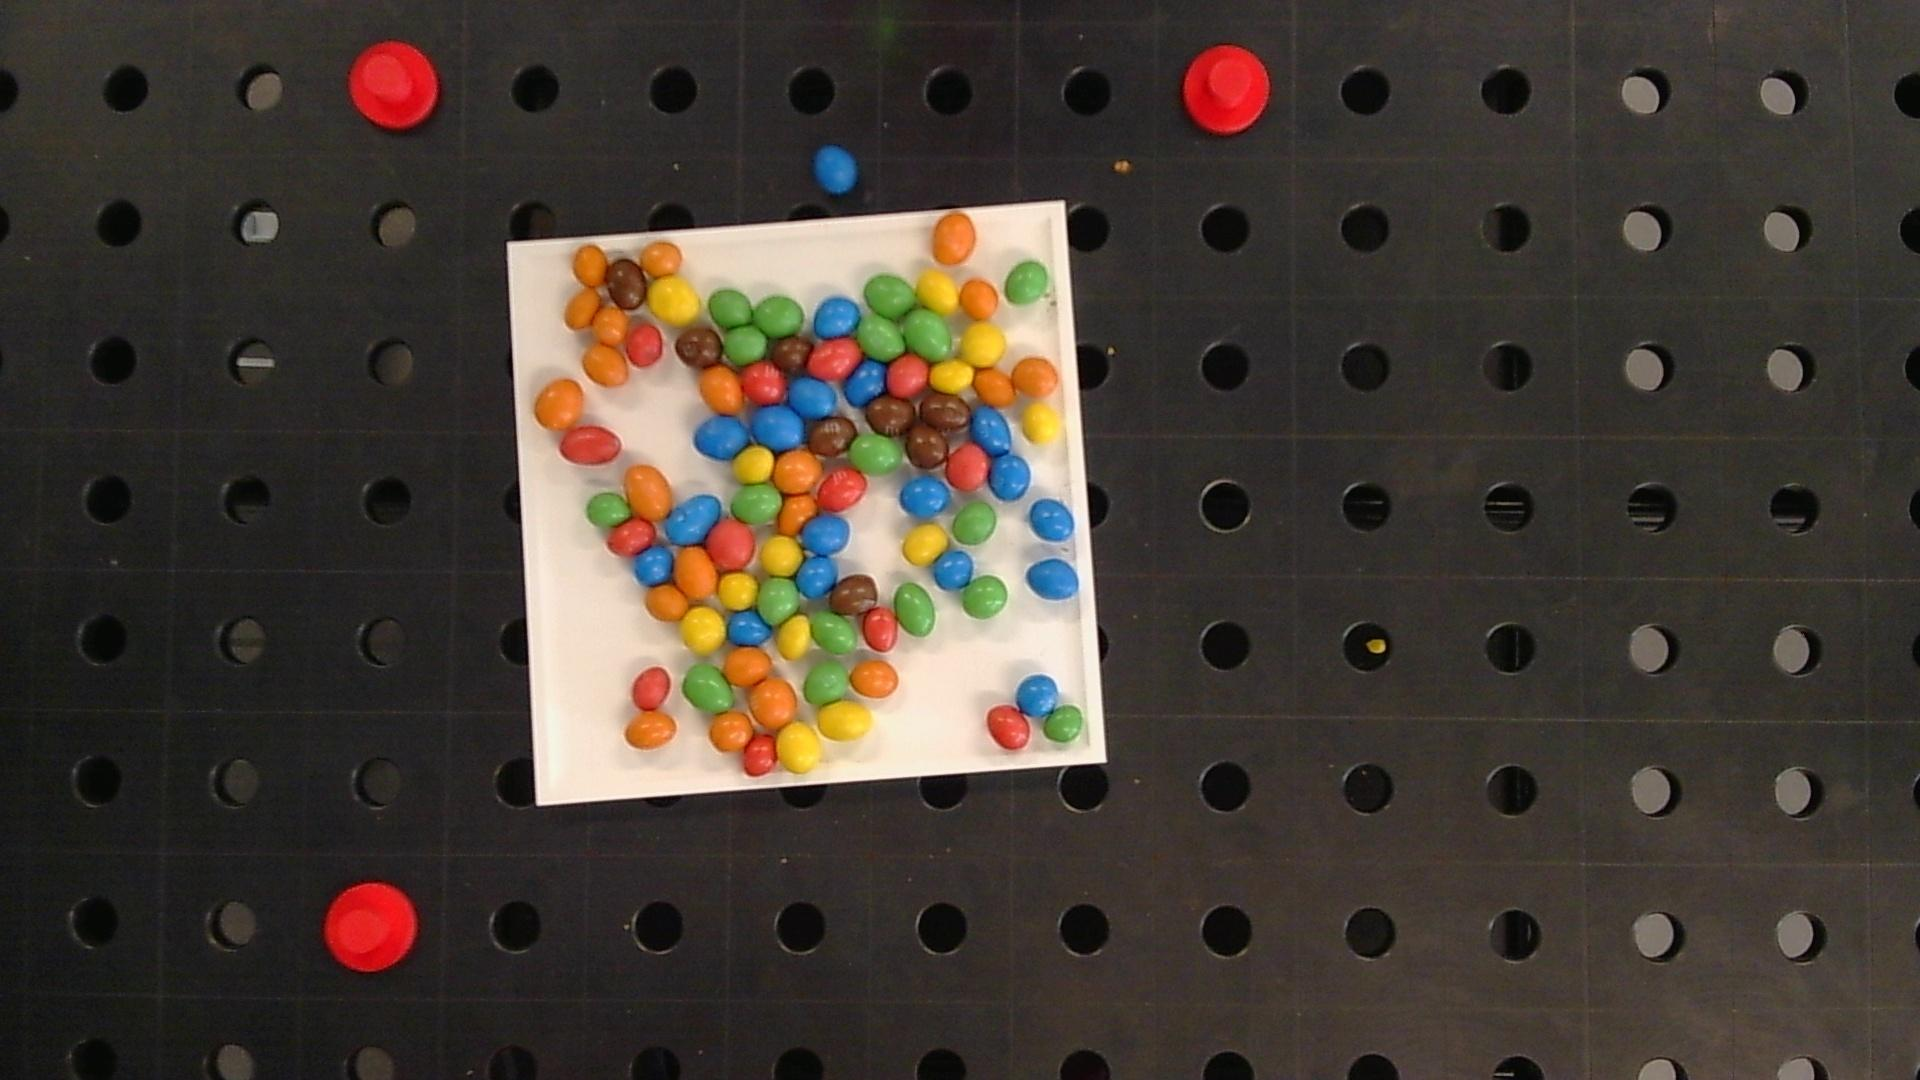blue: (667, 495, 720, 543), (695, 415, 749, 459), (750, 405, 804, 448), (814, 145, 858, 194), (1027, 559, 1079, 600), (901, 476, 949, 517), (1029, 498, 1073, 542), (989, 452, 1030, 500), (803, 514, 849, 555), (789, 377, 836, 417), (972, 407, 1010, 454), (814, 298, 860, 336), (844, 363, 886, 404), (796, 555, 837, 596), (1017, 675, 1059, 715), (728, 609, 771, 645), (934, 551, 973, 589), (634, 547, 674, 585)
brown: (607, 260, 646, 309), (808, 417, 856, 456), (866, 397, 915, 435), (832, 575, 878, 615), (907, 423, 947, 468), (920, 397, 969, 433), (676, 330, 721, 367), (770, 336, 812, 372)
green: (903, 310, 952, 359), (864, 274, 916, 318), (683, 665, 732, 711), (849, 433, 902, 475), (894, 583, 935, 637), (856, 316, 906, 360), (753, 295, 804, 336), (732, 485, 783, 525), (961, 576, 1009, 618), (803, 662, 849, 704), (810, 611, 856, 653), (1005, 261, 1050, 303), (758, 578, 799, 624), (953, 502, 997, 545), (723, 326, 766, 365), (708, 287, 753, 326), (1043, 705, 1085, 744), (585, 492, 630, 527)
orange: (625, 464, 673, 520), (534, 378, 583, 429), (749, 679, 798, 728), (932, 212, 976, 264), (675, 547, 717, 597), (1011, 356, 1060, 397), (700, 367, 742, 413), (723, 647, 773, 686), (774, 450, 820, 491), (624, 713, 676, 749), (583, 344, 628, 385), (851, 661, 899, 698), (709, 712, 753, 750), (959, 278, 998, 319), (973, 368, 1014, 406), (646, 584, 688, 621), (572, 244, 608, 286), (781, 495, 816, 533), (564, 289, 600, 327), (641, 243, 682, 276), (593, 307, 628, 344)
red: (707, 520, 756, 568), (559, 426, 621, 463), (807, 339, 861, 378), (816, 468, 866, 509), (986, 705, 1031, 749), (947, 444, 989, 489), (740, 363, 787, 402), (607, 518, 655, 555), (886, 355, 928, 396), (632, 667, 671, 709), (864, 608, 898, 651), (626, 326, 663, 365), (742, 736, 778, 775)
yellow: (649, 277, 699, 323), (777, 723, 820, 773), (816, 702, 873, 740), (682, 608, 725, 653), (902, 524, 947, 564), (916, 272, 960, 313), (960, 324, 1005, 364), (761, 537, 802, 575), (1022, 405, 1062, 442), (930, 360, 973, 393), (719, 574, 757, 609), (735, 447, 774, 481), (778, 617, 811, 658)
